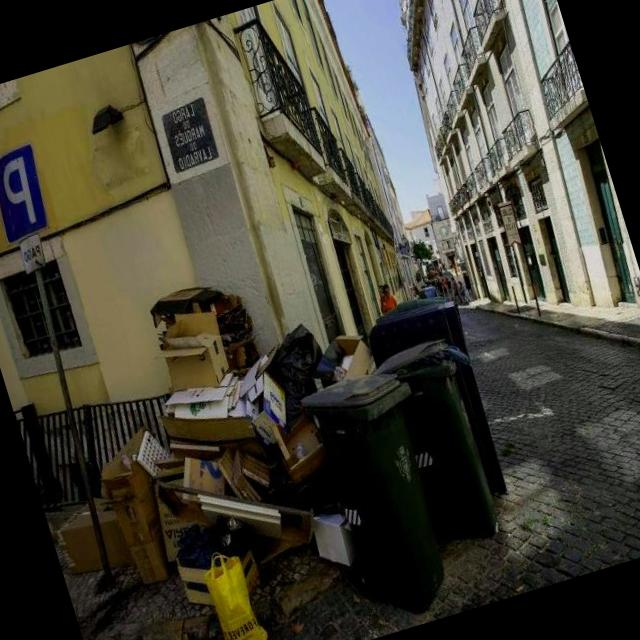high trash: (59, 286, 371, 640)
